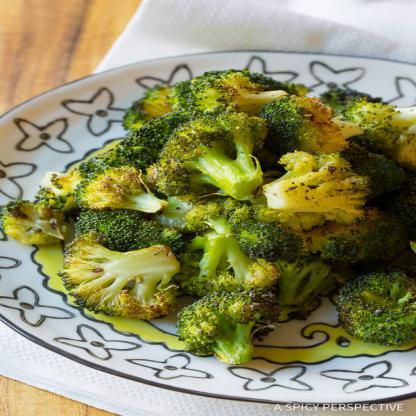broccoli: (0, 68, 415, 365)
